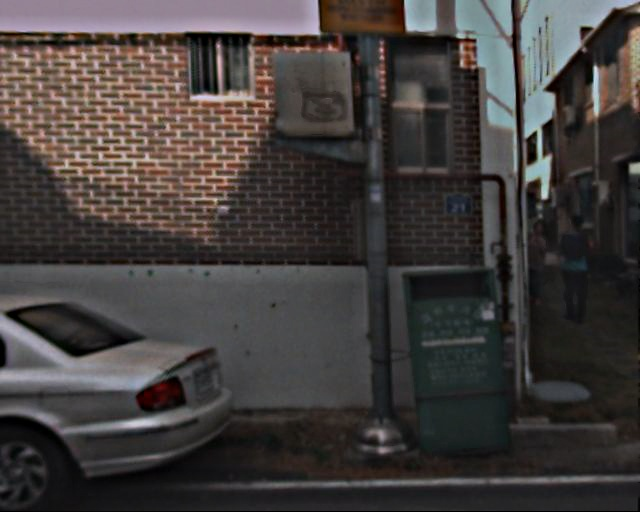person: (547, 213, 599, 328), (512, 220, 558, 311)
